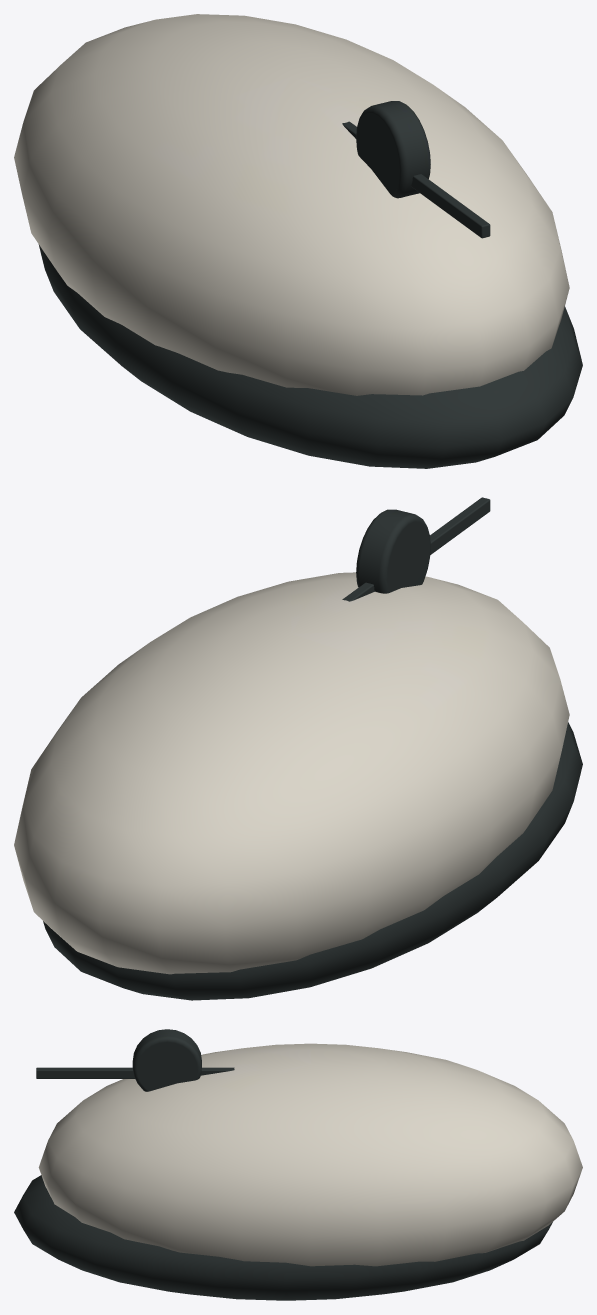
The model's file is mouse.glb.
The picture shows the model from 3 angles, top to bottom: view 1: azimuth 30°, elevation 25°; view 2: azimuth 150°, elevation 25°; view 3: azimuth 270°, elevation 25°; orthographic projection. The views are drawn at different scales.
Parts seen in each view (by area): view 1: Mouse palm shell, Mouse button split; view 2: Mouse palm shell, Mouse button split; view 3: Mouse palm shell, Mouse button split.
Part boxes in pixels (left/top/right/bottom): Mouse palm shell: left=14, top=14, right=569, bottom=395; Mouse button split: left=38, top=101, right=582, bottom=468; Mouse palm shell: left=14, top=572, right=569, bottom=974; Mouse button split: left=43, top=497, right=582, bottom=1000; Mouse palm shell: left=38, top=1043, right=582, bottom=1266; Mouse button split: left=14, top=1029, right=552, bottom=1300.
Bounding box in the file's own units: 0.066 × 0.053 × 0.115.
2 materials, 2 textured.
